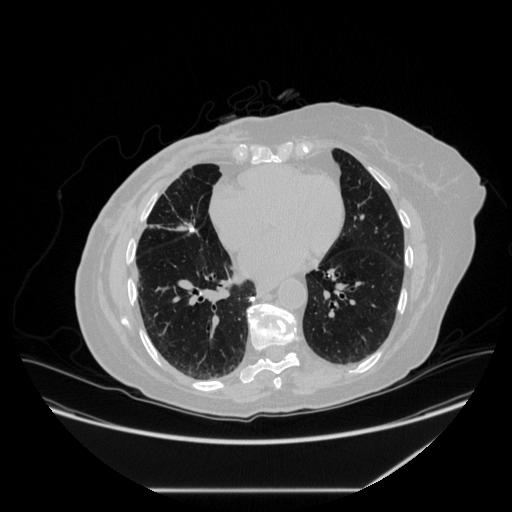nodule: (247, 294, 257, 304)
